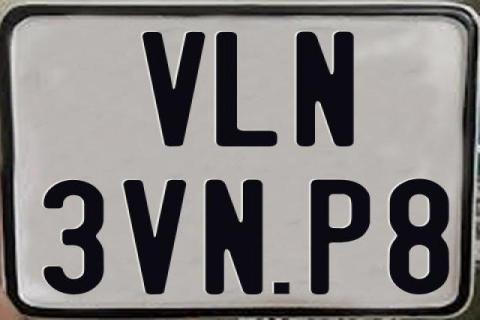0: (389, 178, 453, 298), (43, 177, 105, 297)
L: (215, 32, 278, 146)
N: (205, 178, 267, 298), (294, 29, 354, 148)
P: (312, 178, 374, 298)
V: (139, 31, 206, 145), (123, 178, 186, 296)
